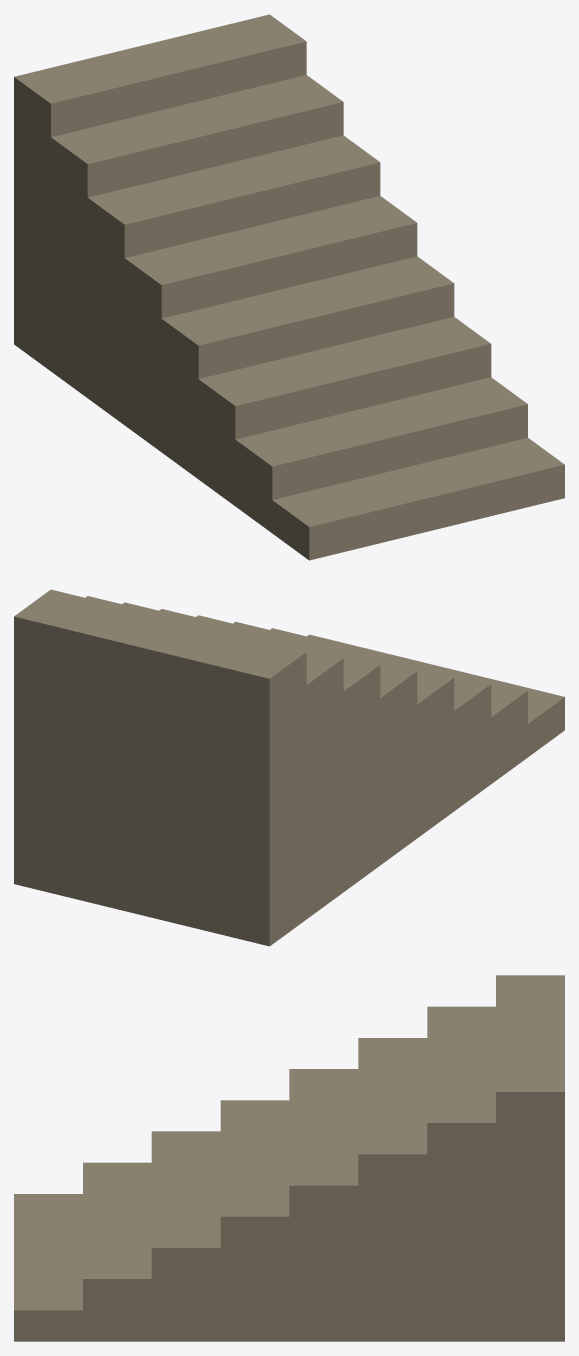
Rendered from stairs.glb.
3 views of the same model, one above another, from view 1: azimuth 30°, elevation 25°; view 2: azimuth 150°, elevation 25°; view 3: azimuth 270°, elevation 25° (orthographic). The views are drawn at different scales.
Parts seen in each view (by area): view 1: step_7, step_6, step_5, step_4, step_3, step_2, step_1, step_0; view 2: step_7, step_6, step_5, step_4, step_3, step_2, step_1, step_0; view 3: step_7, step_6, step_5, step_4, step_3, step_2, step_1, step_0.
Boxes of the visible parts, box(x1,y1,x2,y2) form: step_7: box(14, 14, 306, 370); step_6: box(51, 75, 343, 397); step_5: box(87, 135, 380, 424); step_4: box(124, 196, 417, 451); step_3: box(161, 256, 454, 479); step_2: box(198, 317, 491, 505); step_1: box(235, 377, 527, 532); step_0: box(272, 438, 564, 560); step_7: box(14, 589, 306, 946); step_6: box(85, 596, 343, 918); step_5: box(122, 602, 380, 891); step_4: box(159, 609, 417, 865); step_3: box(196, 615, 454, 837); step_2: box(233, 621, 491, 810); step_1: box(270, 628, 527, 783); step_0: box(307, 634, 564, 756); step_7: box(496, 975, 564, 1341); step_6: box(427, 1006, 495, 1341); step_5: box(358, 1038, 427, 1341); step_4: box(289, 1069, 358, 1341); step_3: box(220, 1100, 289, 1341); step_2: box(151, 1131, 220, 1341); step_1: box(83, 1162, 151, 1341); step_0: box(14, 1194, 82, 1341).
Size of the model in its own units: 2 by 2 by 4.
